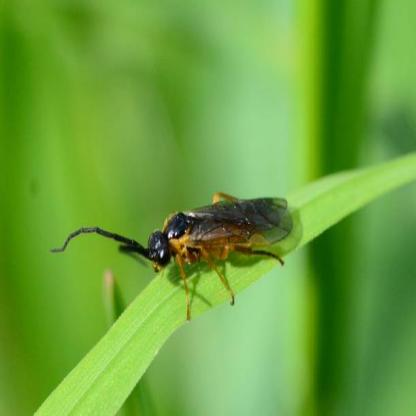sawfly: (70, 192, 302, 319)
